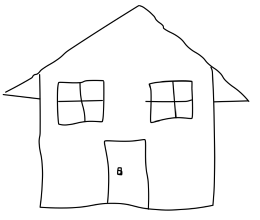big_house: (0, 0, 260, 220)
closed_window: (51, 76, 108, 130), (143, 75, 199, 129)
door: (98, 134, 156, 212)
single_line_roof: (24, 1, 233, 73)
wall: (25, 75, 222, 212)
